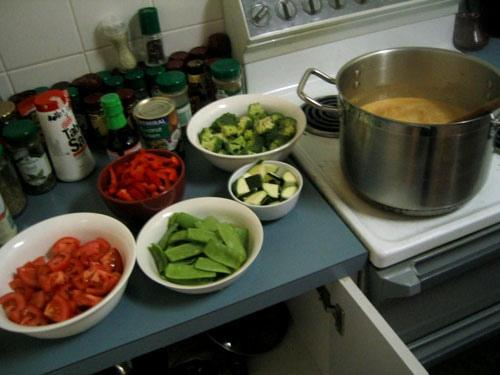broccoli: (253, 114, 280, 134), (198, 128, 224, 144), (200, 136, 224, 153), (236, 115, 253, 138), (278, 117, 296, 138), (268, 134, 290, 150), (247, 136, 268, 152), (218, 112, 241, 124), (248, 102, 264, 116), (229, 136, 246, 148), (244, 129, 259, 140), (225, 144, 241, 154), (270, 113, 285, 122), (232, 148, 249, 154)
pea: (216, 223, 247, 267), (204, 240, 241, 268), (147, 242, 168, 276), (194, 257, 231, 276), (167, 230, 193, 247), (176, 212, 198, 230), (194, 216, 220, 231), (233, 226, 248, 251)
tomato: (84, 268, 120, 296), (0, 292, 26, 324), (44, 292, 70, 322), (46, 237, 81, 258), (36, 264, 56, 296), (48, 247, 72, 272), (62, 257, 85, 283), (100, 247, 123, 273), (28, 290, 52, 313), (7, 278, 32, 300), (72, 290, 104, 306), (17, 268, 42, 288), (20, 306, 42, 326), (74, 240, 98, 256), (48, 270, 69, 286), (24, 262, 46, 268), (12, 272, 18, 280)
vegetable marrow: (244, 190, 270, 205), (279, 170, 296, 192), (244, 174, 264, 192), (232, 176, 250, 196), (263, 171, 283, 187), (246, 160, 264, 176), (280, 186, 298, 202), (262, 183, 279, 199), (264, 164, 280, 173)
